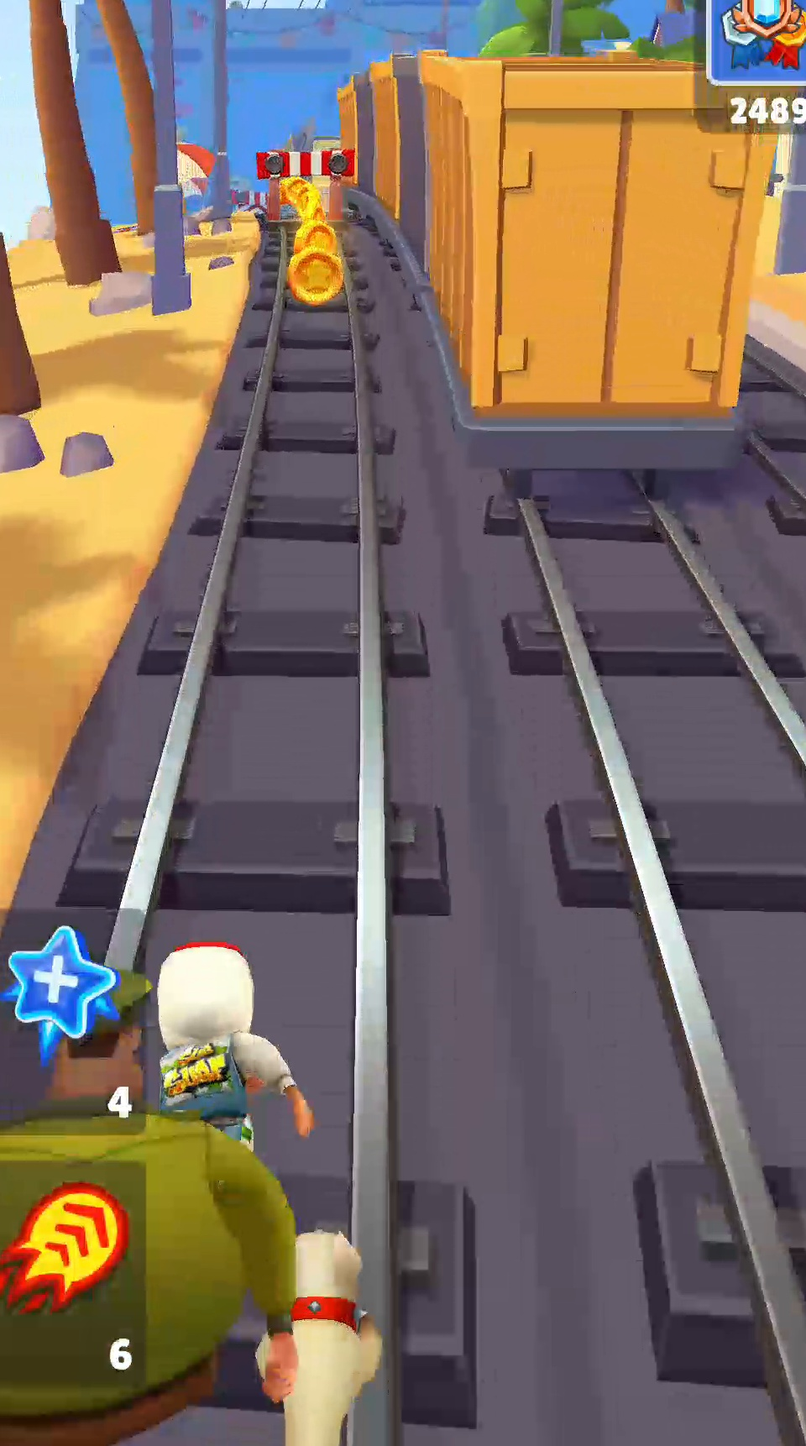police: (0, 972, 297, 1445)
roll blocker: (257, 150, 354, 220)
train: (338, 51, 774, 473)
